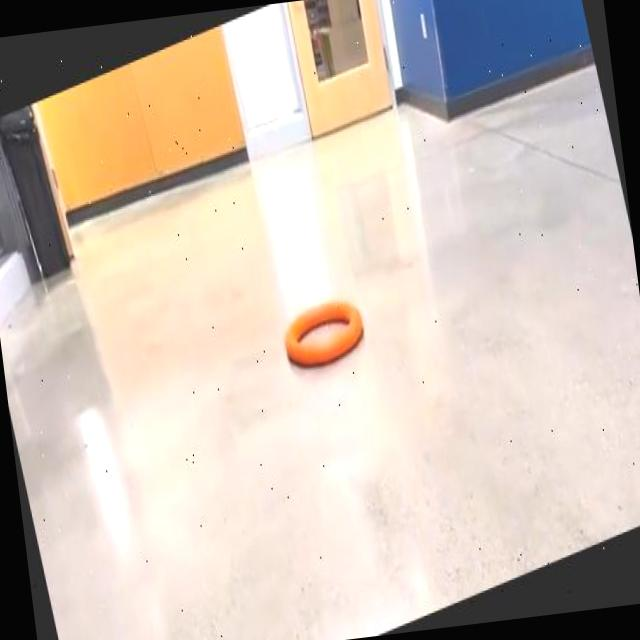note: (284, 298, 362, 364)
